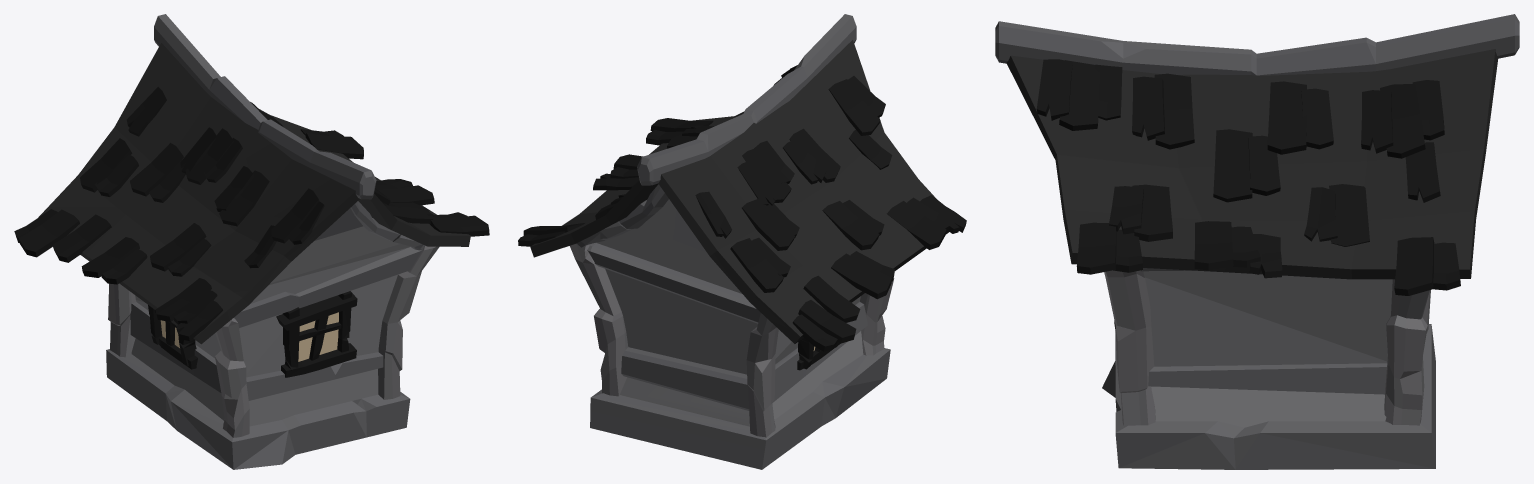
File: WF_LP_HT_Build_HouseRoom.003.1.fbx
3 renders of one model, left to right at view 1: azimuth 30°, elevation 25°; view 2: azimuth 150°, elevation 25°; view 3: azimuth 270°, elevation 25°, orthographic. The views are drawn at different scales.
Parts seen in each view (by area): view 1: WF_LP_HT_Build_HouseRoom.003.1; view 2: WF_LP_HT_Build_HouseRoom.003.1; view 3: WF_LP_HT_Build_HouseRoom.003.1.
Part boxes in pixels (x1,y1,x2,y2): WF_LP_HT_Build_HouseRoom.003.1: [14, 14, 489, 469]; WF_LP_HT_Build_HouseRoom.003.1: [518, 14, 966, 469]; WF_LP_HT_Build_HouseRoom.003.1: [995, 14, 1519, 469].
Size of the model in its own units: 5.37 by 4.9 by 5.83.
